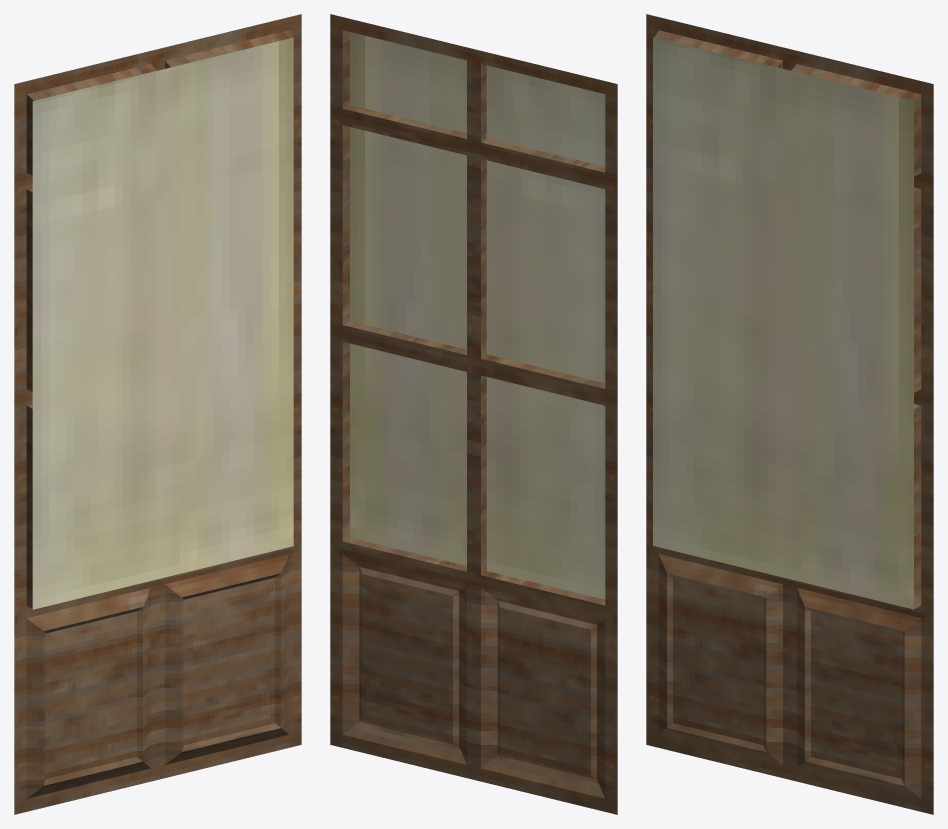
The model's file is GJ_Wall_Window_Frame_03.fbx.
The picture shows the model from 3 angles, left to right: view 1: azimuth 30°, elevation 25°; view 2: azimuth 150°, elevation 25°; view 3: azimuth 330°, elevation 25°; orthographic projection.
Parts seen in each view (by area): view 1: GJ_Wall_Window_Frame_03; view 2: GJ_Wall_Window_Frame_03; view 3: GJ_Wall_Window_Frame_03.
Boxes of the visible parts, x1=… form: GJ_Wall_Window_Frame_03: x1=14, y1=14, x2=301, y2=814; GJ_Wall_Window_Frame_03: x1=330, y1=14, x2=617, y2=814; GJ_Wall_Window_Frame_03: x1=646, y1=14, x2=933, y2=814.
Size of the model in its own units: 87.5 by 212 by 3.1.
